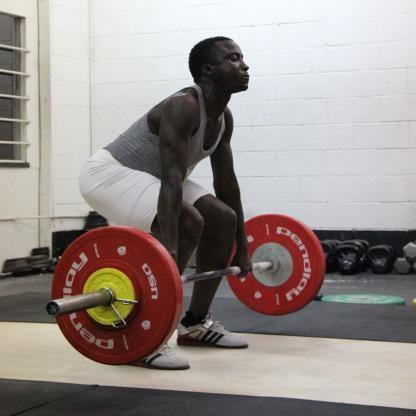barbell: (44, 210, 328, 366)
